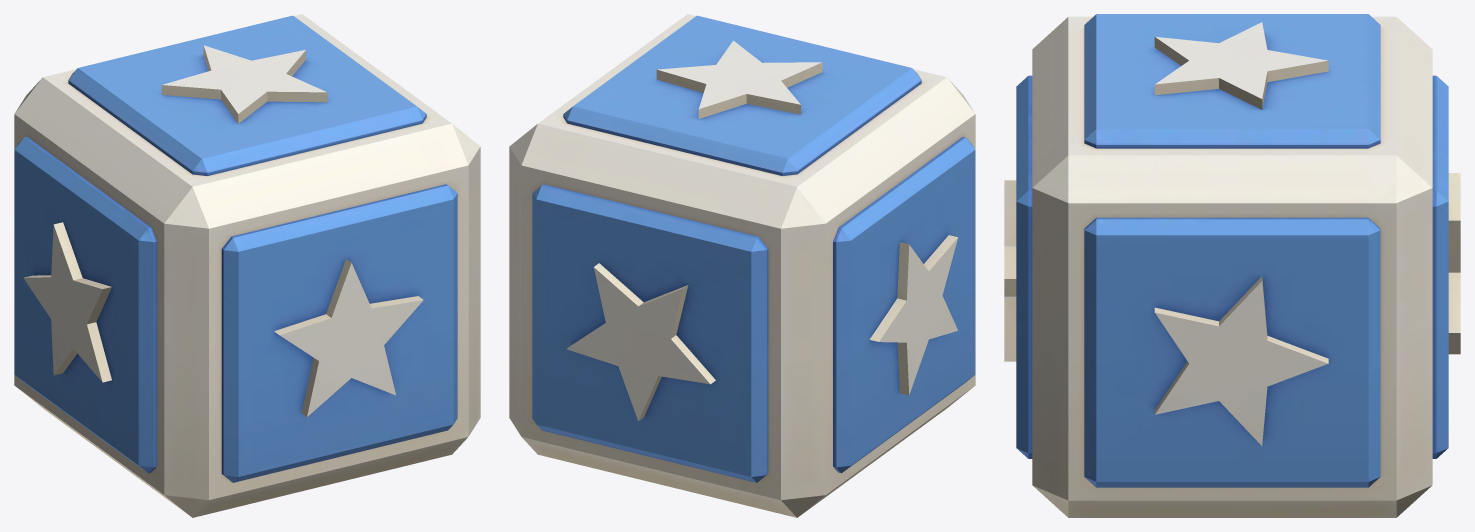
Rendered from toy_block_blue.glb.
3 renders of one model, left to right at view 1: azimuth 30°, elevation 25°; view 2: azimuth 150°, elevation 25°; view 3: azimuth 270°, elevation 25°, orthographic. The views are drawn at different scales.
Parts seen in each view (by area): view 1: prop; view 2: prop; view 3: prop.
Part boxes in pixels (x1,y1,x2,y2): prop: (14, 14, 480, 517); prop: (509, 14, 975, 517); prop: (1004, 14, 1460, 517).
Bounding box in the file's own units: 1.14 × 1.07 × 1.14.
Materials: 1 (1 with a texture image).
